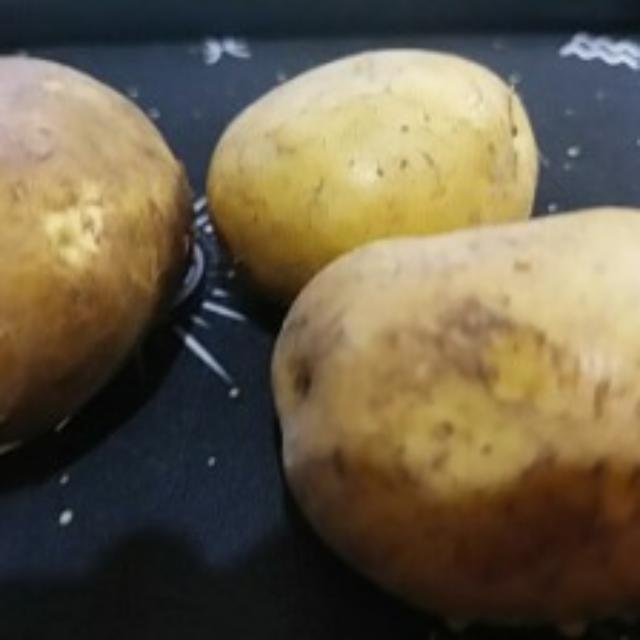Damaged potato: (267, 204, 637, 638), (0, 56, 188, 500)
Potato: (210, 49, 546, 308)
